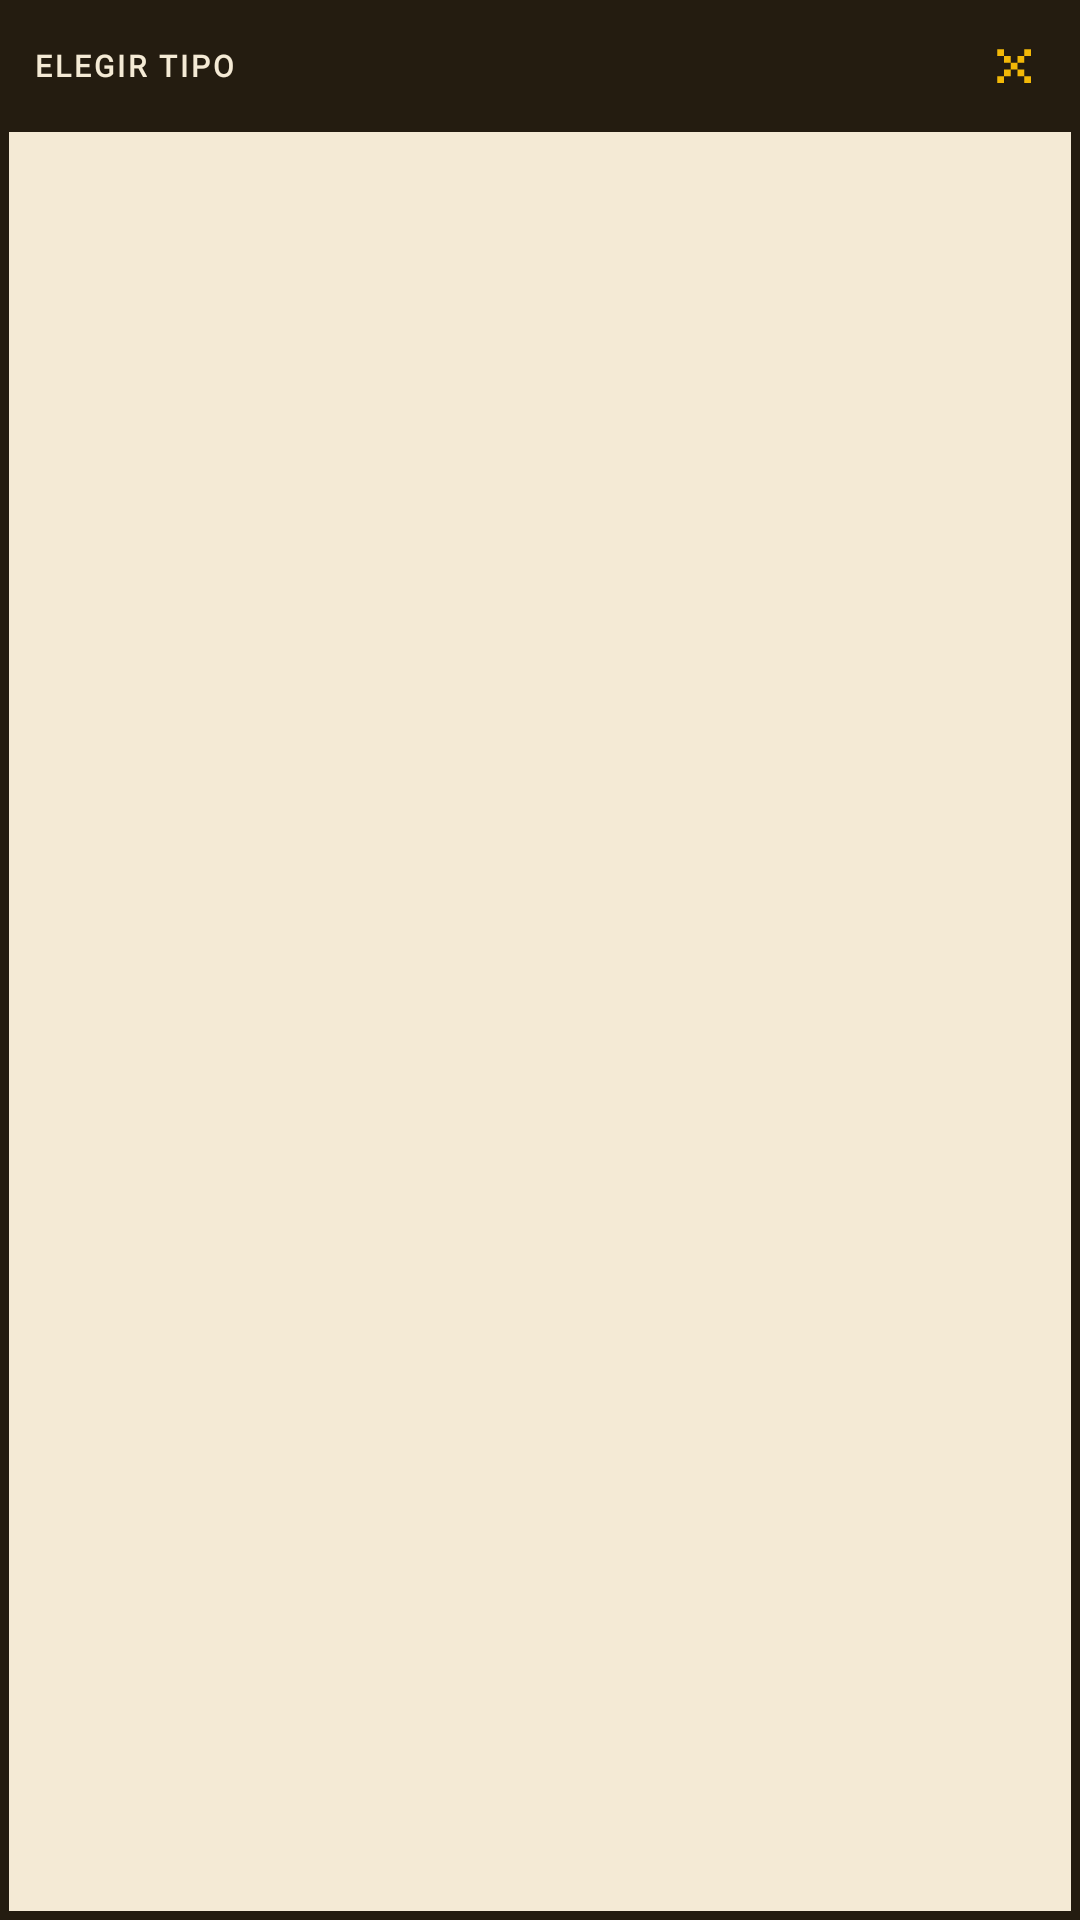

Icon click points for this 1080*1920 phone screenshot, format (x,y):
Cerrar: (1014,66)
